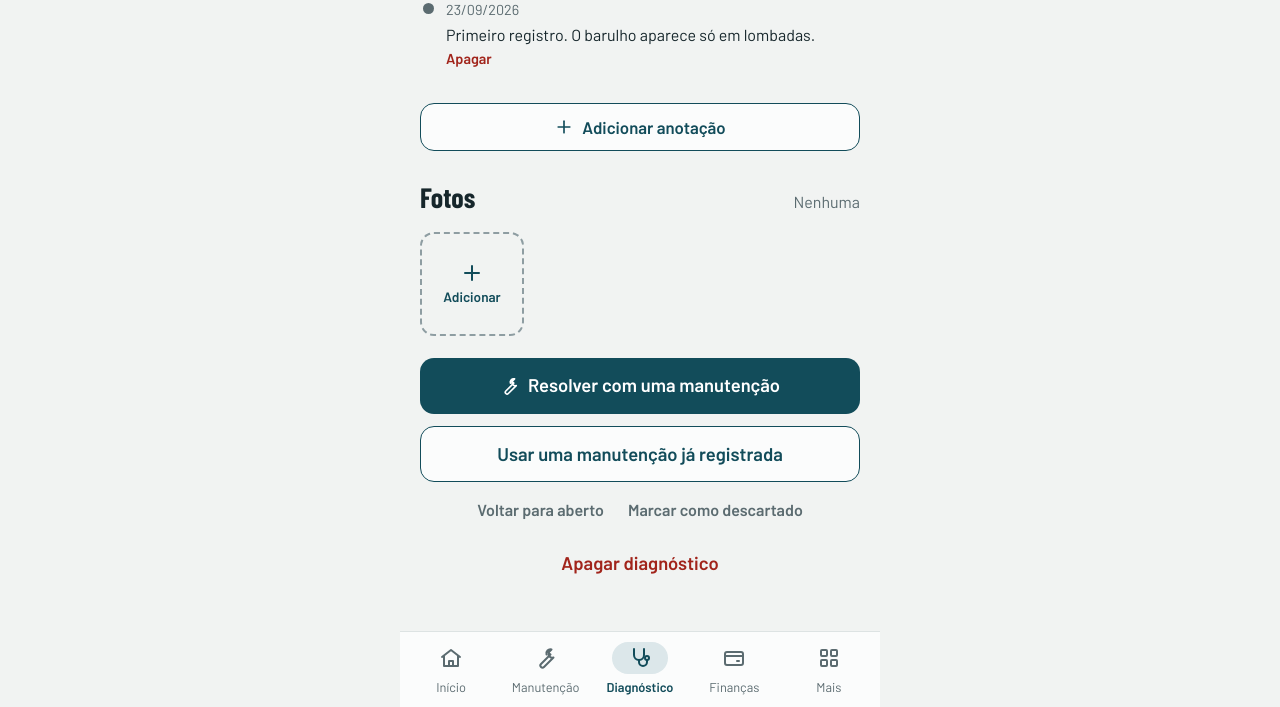
Detalhe do diagnóstico › usa uma manutenção já registrada do veículo
(page scrolled)
Click the button "Usar uma manutenção já registrada": [640, 454] box [420, 426, 860, 482]
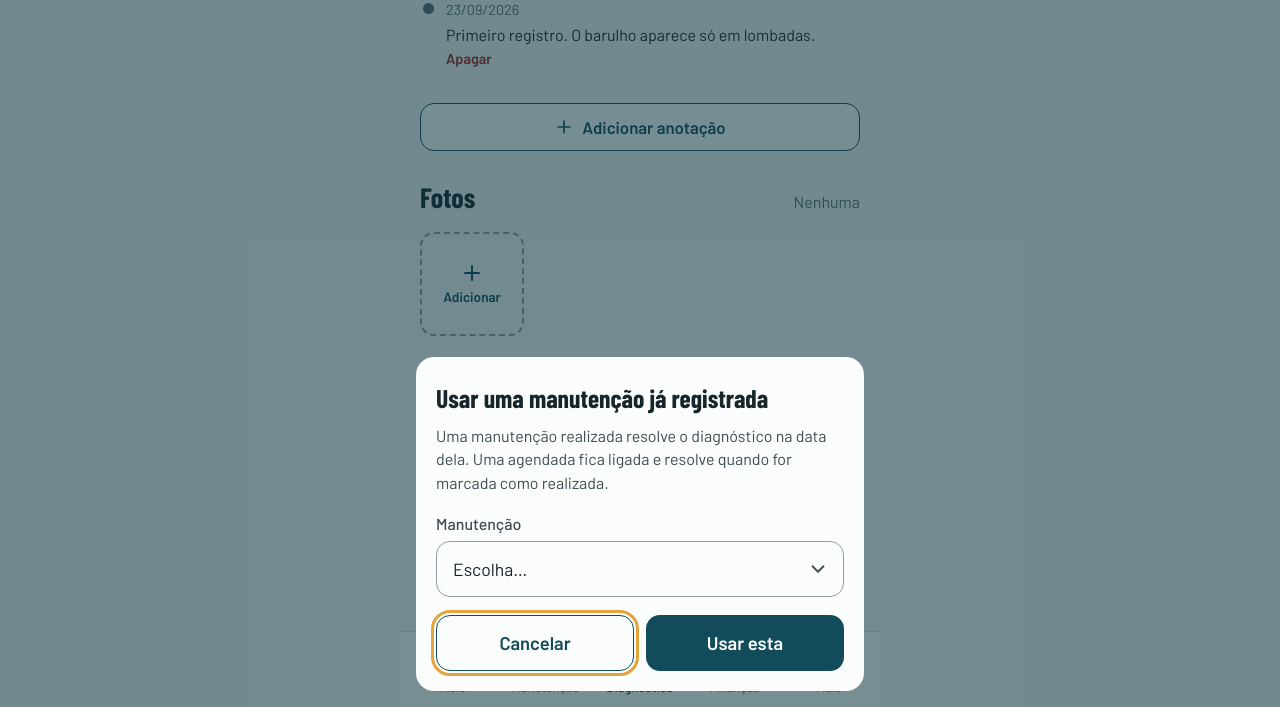
Click the button "Usar esta": [745, 643] box [646, 615, 844, 671]
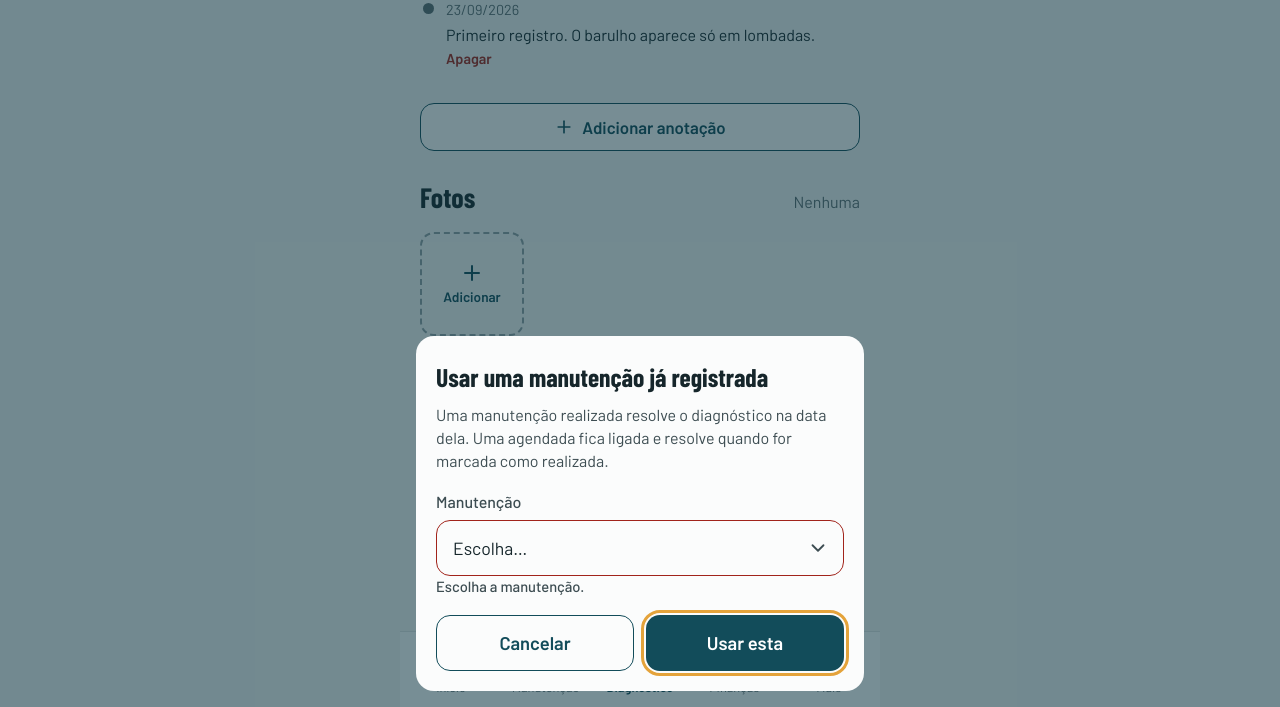
Result: the text "Escolha a manutenção." is shown at [436, 577, 584, 595]
Select "Troca das bieletas (24/09/2026)" in the dropdown labelled "Manutenção": [640, 548] box [436, 520, 844, 576]
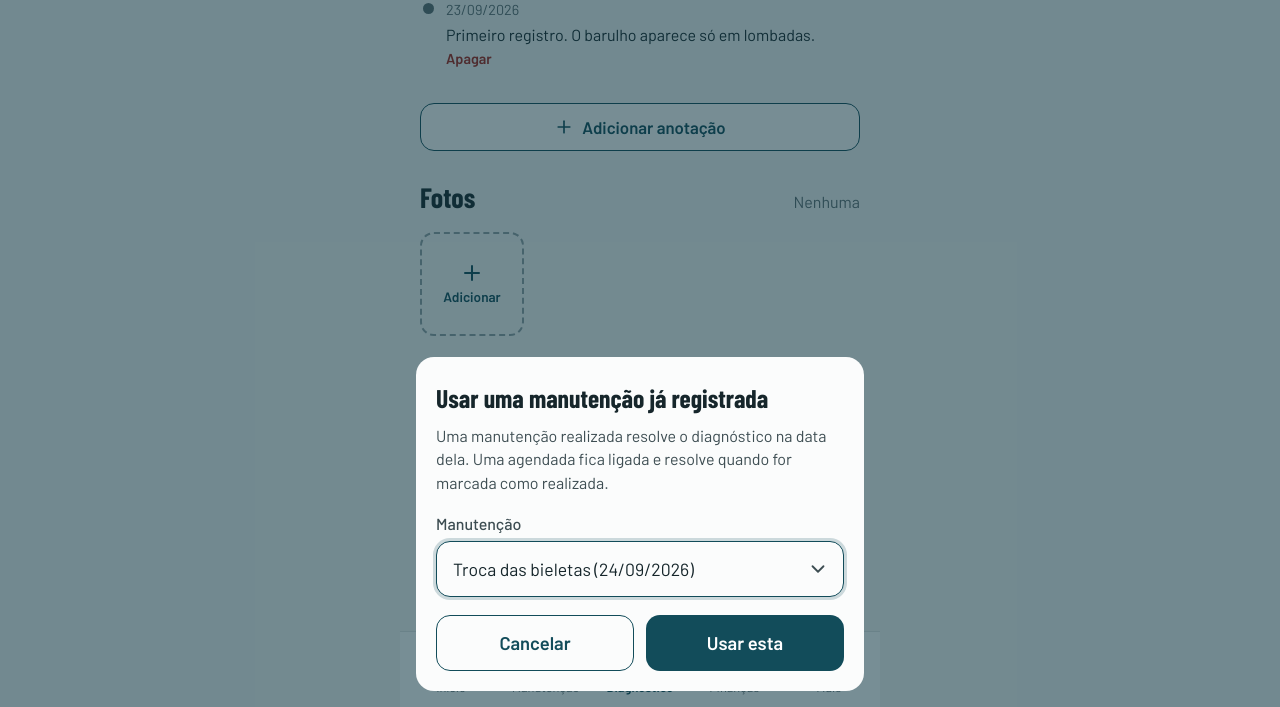
Click the button "Usar esta": [745, 643] box [646, 615, 844, 671]
(page scrolled)
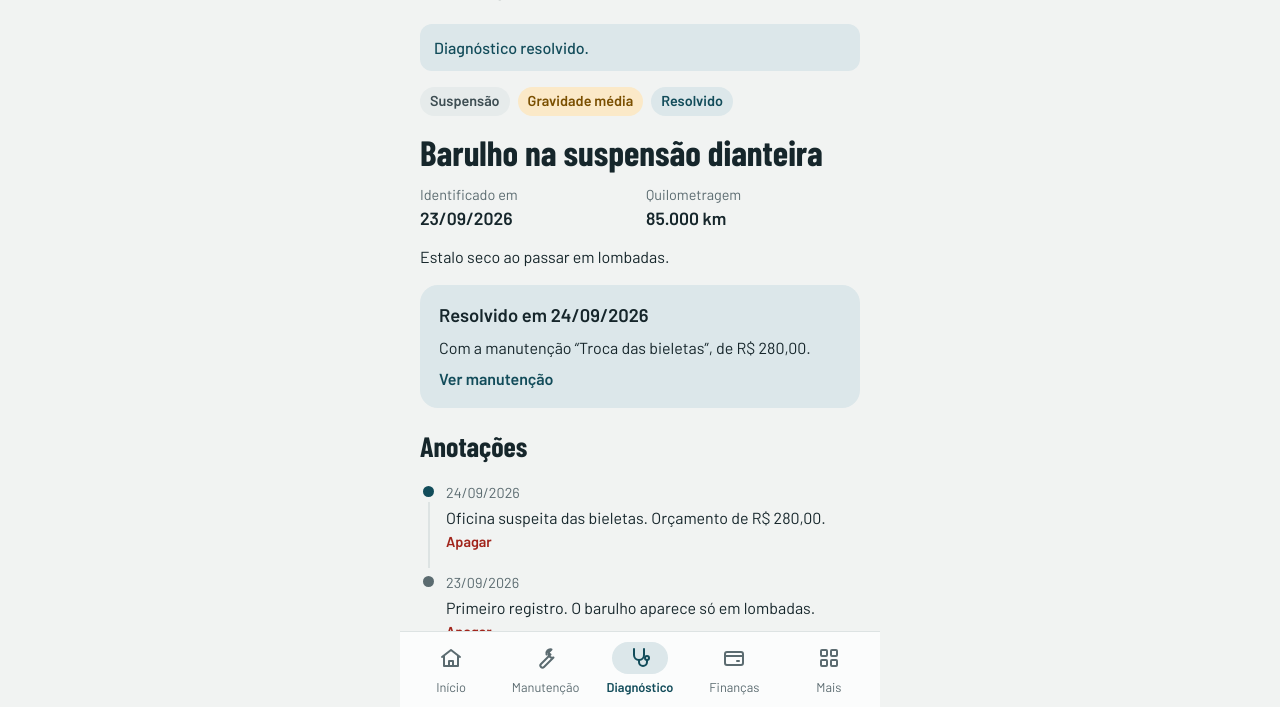
Result: the text "Diagnóstico resolvido." is shown at [420, 24, 860, 71]
Result: the text "Resolvido em 24/09/2026" is shown at [439, 304, 649, 326]
Result: the text "Com a manutenção “Troca das bieletas”, de R$ 280,00." is shown at [439, 336, 841, 360]
